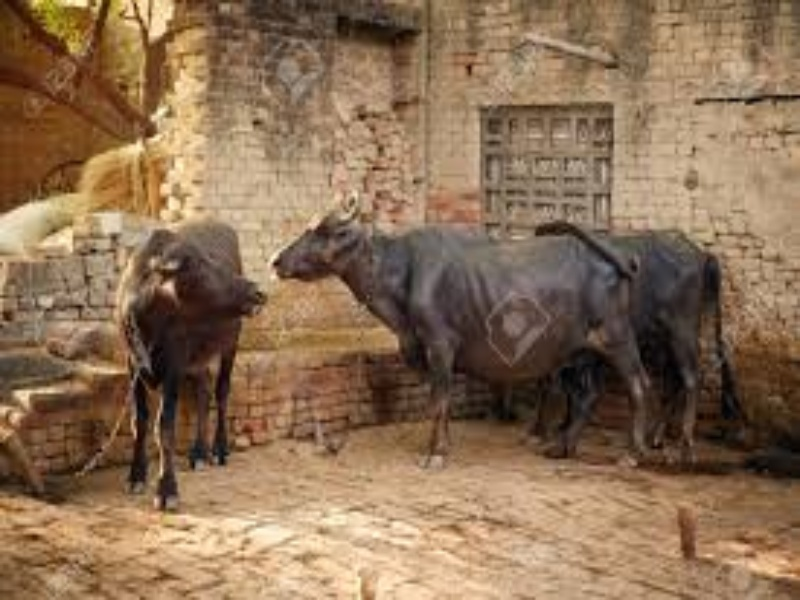buffalo: (83, 198, 741, 472)
